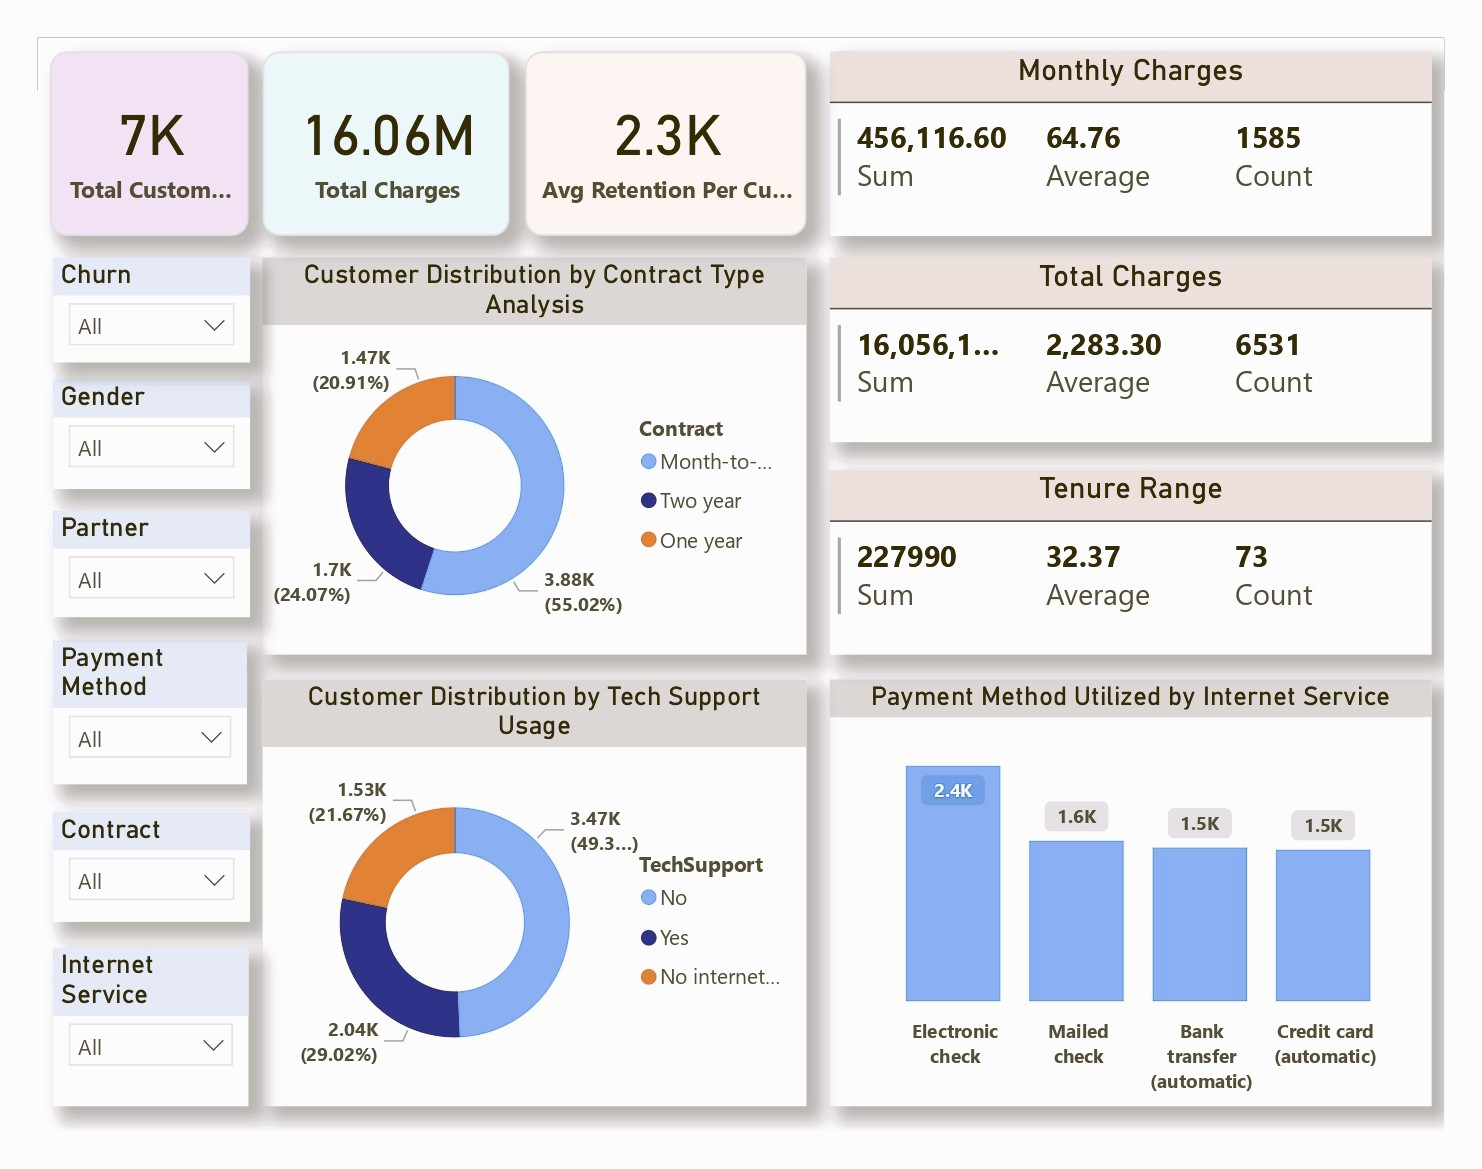

This screenshot's page, from the dashboard's own definition file:
{"tool":"powerbi","page":{"name":"Overview & Key Metrics","canvas":[900,700],"ordinal":1},"visuals":[{"type":"donutChart","title":"Customer Distribution by Contract Type Analysis","fields":{"Y":["CountNonNull(WA_Fn-UseC_-Telco-Customer-Churn.customerID)"],"Category":["WA_Fn-UseC_-Telco-Customer-Churn.Contract"]},"box":[144,141,348,254],"z":0},{"type":"clusteredColumnChart","title":"Payment Method Utilized by Internet Service","fields":{"Category":["WA_Fn-UseC_-Telco-Customer-Churn.PaymentMethod"],"Y":["CountNonNull(WA_Fn-UseC_-Telco-Customer-Churn.InternetService)"]},"box":[507,411,385,273],"z":1000},{"type":"card","fields":{"Values":["CountNonNull(WA_Fn-UseC_-Telco-Customer-Churn.customerID)"]},"box":[8,9,127,118],"z":2000},{"type":"card","fields":{"Values":["Sum(WA_Fn-UseC_-Telco-Customer-Churn.TotalCharges)"]},"box":[144,9,158,118],"z":3000},{"type":"multiRowCard","title":"Monthly Charges","fields":{"Values":["Sum(WA_Fn-UseC_-Telco-Customer-Churn.MonthlyCharges)","Avg(WA_Fn-UseC_-Telco-Customer-Churn.MonthlyCharges)","Count(WA_Fn-UseC_-Telco-Customer-Churn.MonthlyCharges)"]},"box":[507,9,385,118],"z":4000},{"type":"slicer","title":"Gender","fields":{"Values":["WA_Fn-UseC_-Telco-Customer-Churn.gender"]},"box":[10,219,126,70],"z":5000},{"type":"slicer","title":"Payment Method","fields":{"Values":["WA_Fn-UseC_-Telco-Customer-Churn.PaymentMethod"]},"box":[10,386,124,92],"z":6000},{"type":"slicer","title":"Partner","fields":{"Values":["WA_Fn-UseC_-Telco-Customer-Churn.Partner"]},"box":[10,303,126,68],"z":7000},{"type":"slicer","title":"Contract","fields":{"Values":["WA_Fn-UseC_-Telco-Customer-Churn.Contract"]},"box":[10,496,126,70],"z":8000},{"type":"multiRowCard","title":"Total Charges","fields":{"Values":["Sum(WA_Fn-UseC_-Telco-Customer-Churn.TotalCharges)","Avg(WA_Fn-UseC_-Telco-Customer-Churn.TotalCharges)","Count(WA_Fn-UseC_-Telco-Customer-Churn.TotalCharges)"]},"box":[507,141,385,118],"z":9000},{"type":"multiRowCard","title":"Tenure Range","fields":{"Values":["Sum(WA_Fn-UseC_-Telco-Customer-Churn.tenure)","Avg(WA_Fn-UseC_-Telco-Customer-Churn.tenure)","Count(WA_Fn-UseC_-Telco-Customer-Churn.tenure)"]},"box":[507,277,385,118],"z":10000},{"type":"donutChart","title":"Customer Distribution by Tech Support Usage","fields":{"Y":["CountNonNull(WA_Fn-UseC_-Telco-Customer-Churn.customerID)"],"Category":["WA_Fn-UseC_-Telco-Customer-Churn.TechSupport"]},"box":[144,411,348,273],"z":11000},{"type":"slicer","title":"Internet Service","fields":{"Values":["WA_Fn-UseC_-Telco-Customer-Churn.InternetService"]},"box":[10,583,125,101],"z":12000},{"type":"slicer","title":"Churn","fields":{"Values":["WA_Fn-UseC_-Telco-Customer-Churn.Churn"]},"box":[10,141,126,67],"z":13000},{"type":"card","title":"arpc","fields":{"Values":["WA_Fn-UseC_-Telco-Customer-Churn.ARPU"]},"box":[312,9,180,118],"z":14000}]}

Visuals, with their boxes on the page's 900x700 design canvas (x1, y1, x2, y2). These are canvas units, not pixel positions in the 1482x1169 screenshot, which may show the page scaled, cropped or inside an application window:
"Customer Distribution by Contract Type Analysis" donutChart: bbox=(144, 141, 492, 395)
"Payment Method Utilized by Internet Service" clusteredColumnChart: bbox=(507, 411, 892, 684)
card - CountNonNull(WA_Fn-UseC_-Telco-Customer-Churn.customerID): bbox=(8, 9, 135, 127)
card - Sum(WA_Fn-UseC_-Telco-Customer-Churn.TotalCharges): bbox=(144, 9, 302, 127)
"Monthly Charges" multiRowCard: bbox=(507, 9, 892, 127)
"Gender" slicer: bbox=(10, 219, 136, 289)
"Payment Method" slicer: bbox=(10, 386, 134, 478)
"Partner" slicer: bbox=(10, 303, 136, 371)
"Contract" slicer: bbox=(10, 496, 136, 566)
"Total Charges" multiRowCard: bbox=(507, 141, 892, 259)
"Tenure Range" multiRowCard: bbox=(507, 277, 892, 395)
"Customer Distribution by Tech Support Usage" donutChart: bbox=(144, 411, 492, 684)
"Internet Service" slicer: bbox=(10, 583, 135, 684)
"Churn" slicer: bbox=(10, 141, 136, 208)
"arpc" card: bbox=(312, 9, 492, 127)
